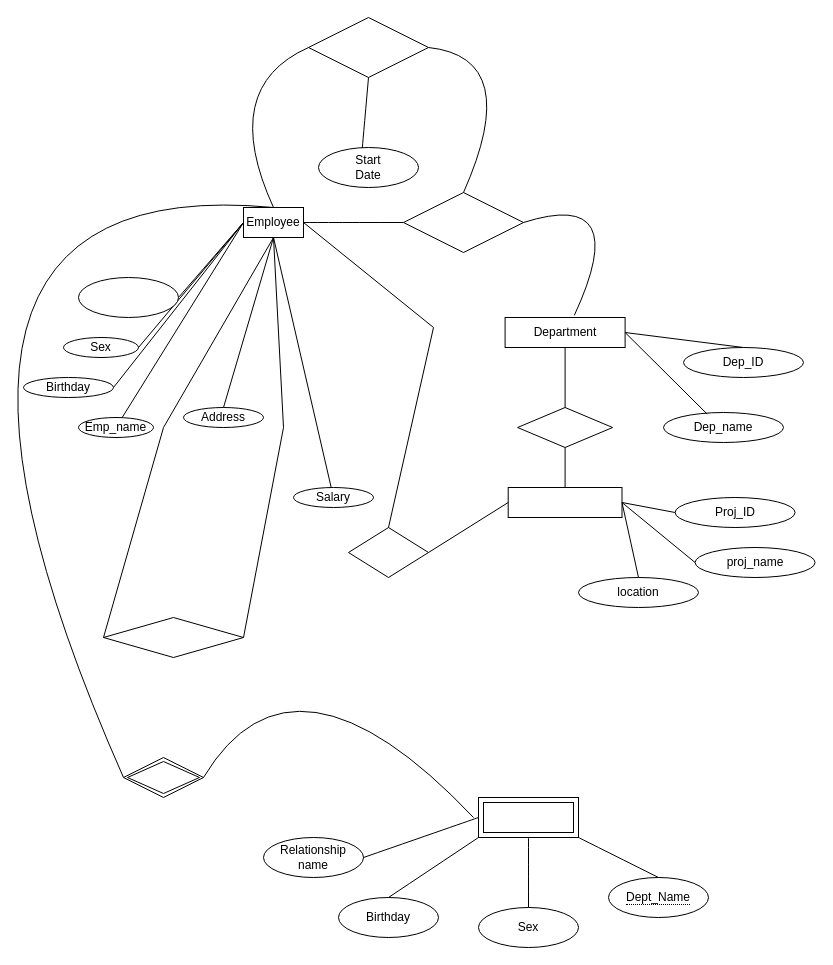
The diagram is 833 pixels wide and 965 high, and some of its shapes have lost their labels. The shapes that lost their labels are listed below. From the top down, each one's box as (x1, y1, x2, y2) in pixels, then its label:
(308, 16, 428, 78): Manager
(402, 192, 524, 252): Work for
(78, 276, 178, 318): Emp_ID
(517, 406, 613, 448): Control
(507, 486, 622, 518): Project
(348, 526, 428, 578): Work on
(102, 616, 244, 658): Supervisor
(122, 756, 204, 798): Have
(478, 796, 578, 838): Dependent
